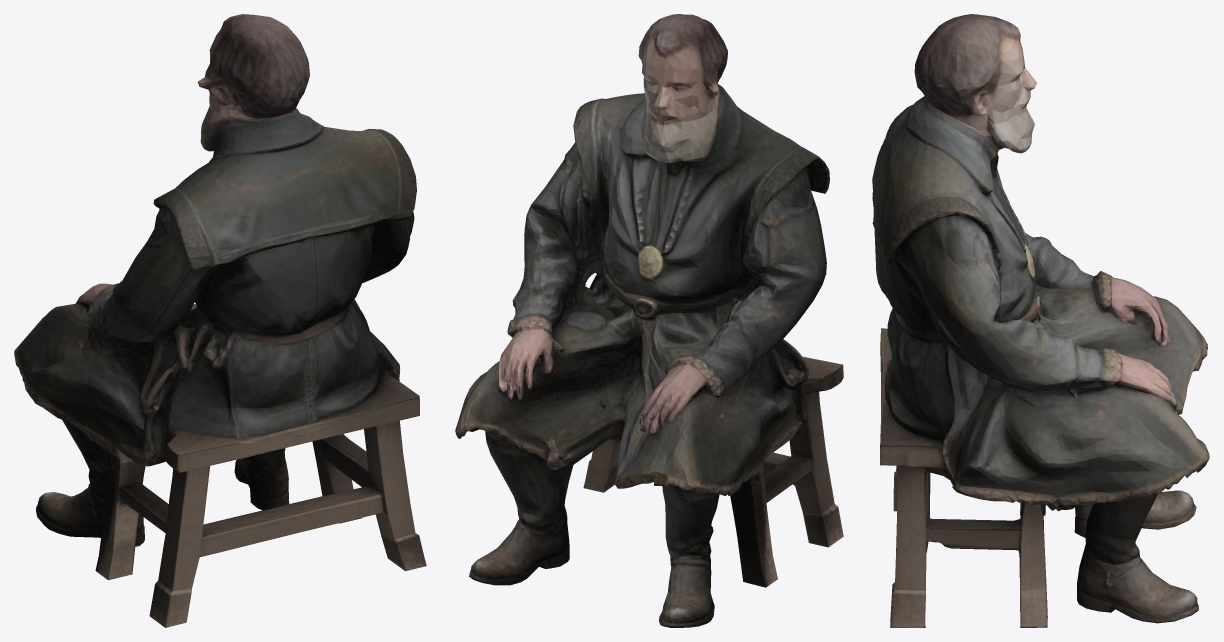
File: council_chancellor.glb
3 views of the same model, side by side, from view 1: azimuth 30°, elevation 25°; view 2: azimuth 150°, elevation 25°; view 3: azimuth 270°, elevation 25° (orthographic). The views are drawn at different scales.
Visible parts, largest first — view 1: geometry_0; view 2: geometry_0; view 3: geometry_0.
Part boxes in pixels (<box>): geometry_0: <box>14,14,426,627</box>; geometry_0: <box>455,14,843,627</box>; geometry_0: <box>872,14,1209,627</box>.
Bounding box in the file's own units: 0.7455 × 1.3 × 0.728.
Materials: 1 (1 with a texture image).
